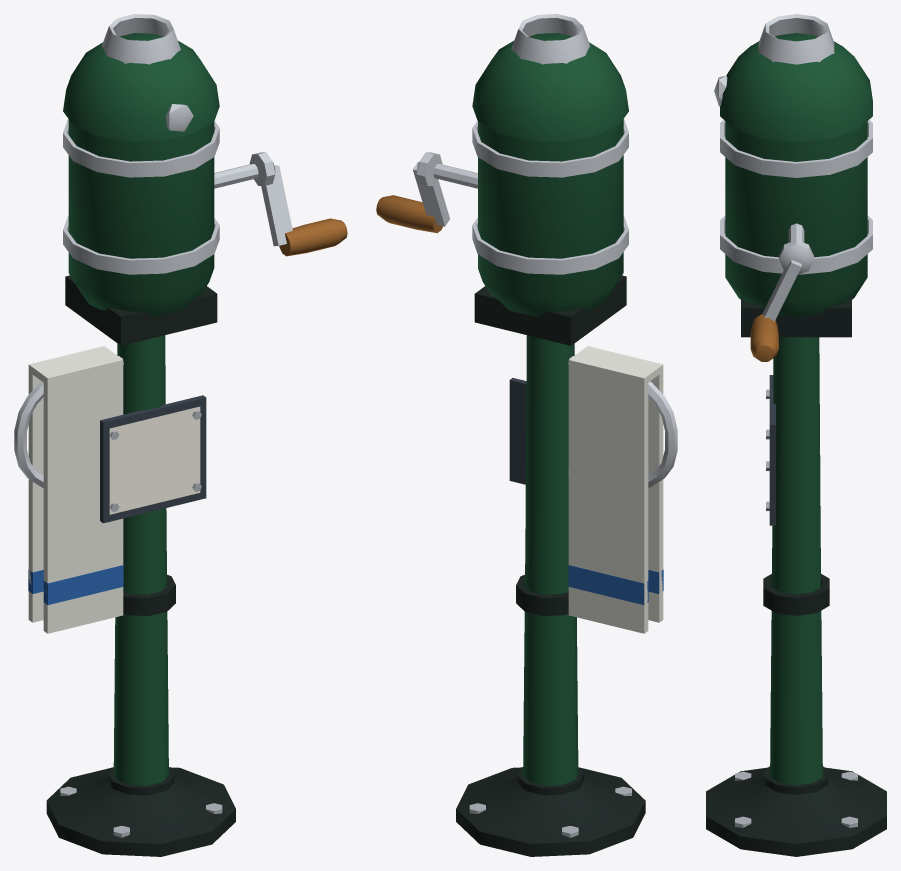
File: ball_washer.glb
The picture shows the model from 3 angles, left to right: view 1: azimuth 30°, elevation 25°; view 2: azimuth 150°, elevation 25°; view 3: azimuth 270°, elevation 25°; orthographic projection.
Visible parts, largest first — view 1: ball_washer_mesh; view 2: ball_washer_mesh; view 3: ball_washer_mesh.
Part boxes in pixels (box(x1,y1,x2,y2)): ball_washer_mesh: box(14, 14, 347, 856); ball_washer_mesh: box(376, 14, 677, 856); ball_washer_mesh: box(706, 14, 886, 856).
Size of the model in its own units: 0.4554 by 1.1 by 0.2283.
